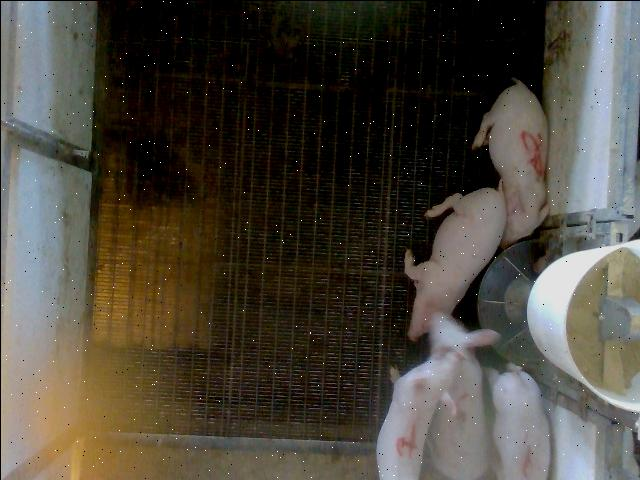pig-1: (491, 362, 549, 479)
pig-3: (426, 312, 498, 479)
pig-4: (376, 349, 461, 478)
pig-5: (471, 78, 548, 246)
